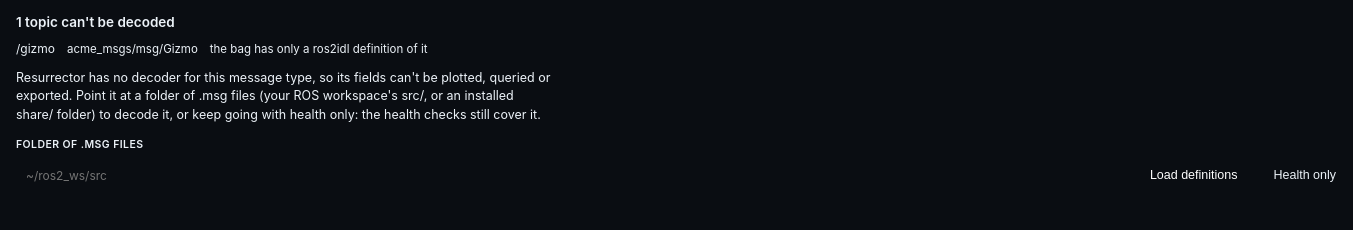
Test: DecoderNotice › asks for a path before calling the server
Step 1. Click the button "Load definitions" → (1194, 175), box [1136,161,1252,189]
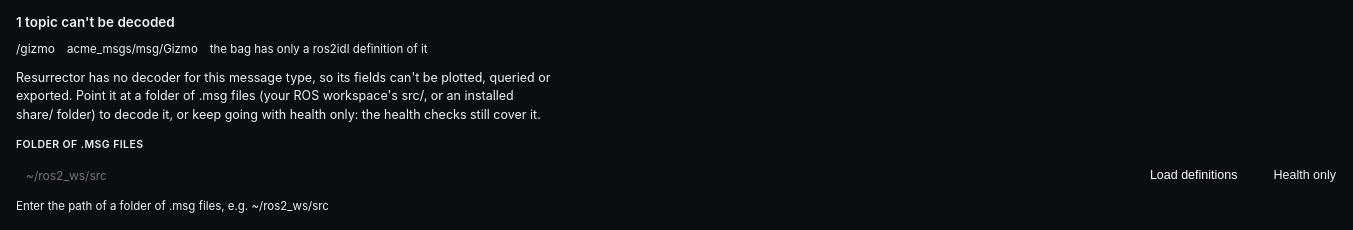
Expected: the text "Enter the path of a folder of .msg files, e.g. ~/ros2_ws/src" is shown, [16,198,329,212]
